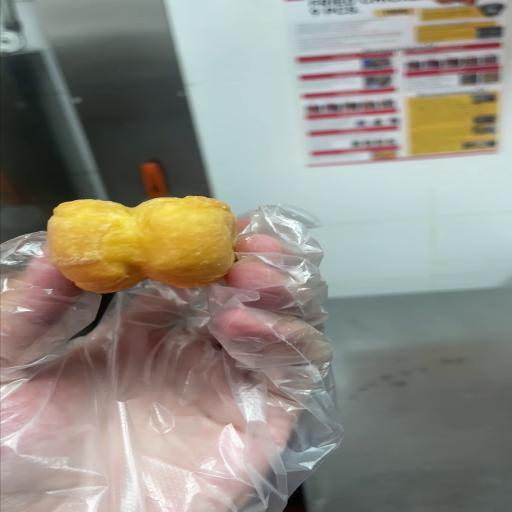brand_golden_good: (47, 196, 236, 293)
